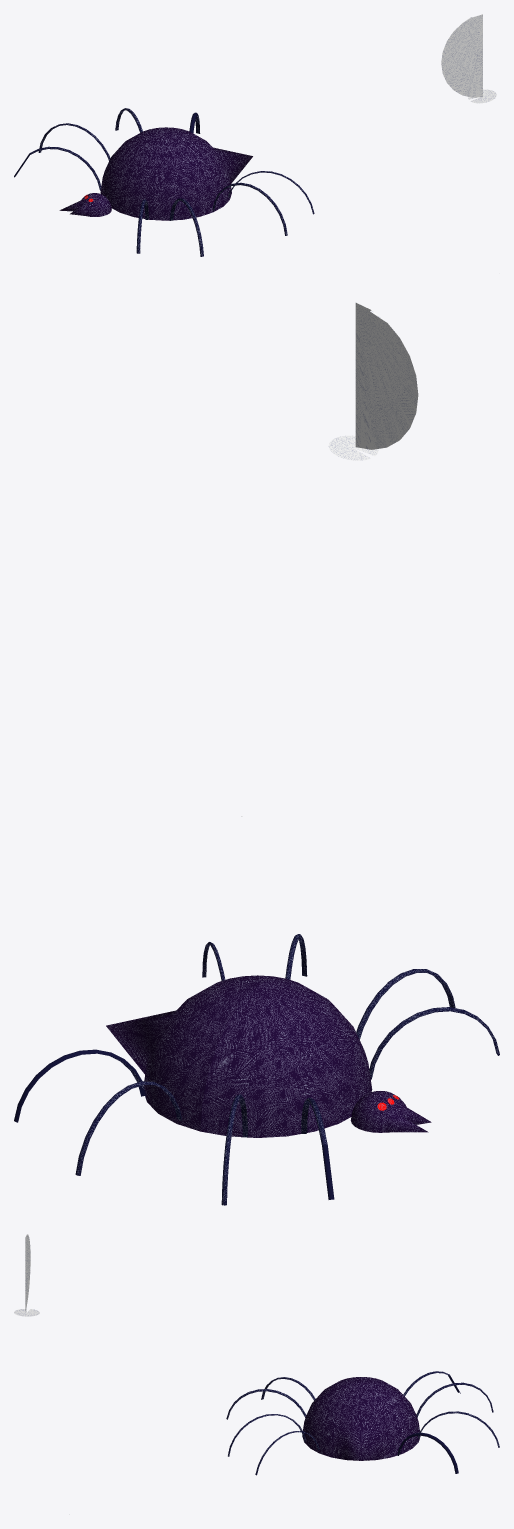
3 renders of one model, top to bottom at view 1: azimuth 30°, elevation 25°; view 2: azimuth 150°, elevation 25°; view 3: azimuth 270°, elevation 25°, orthographic. The views are drawn at different scales.
Parts seen in each view (by area): view 1: SketchUp (×6); view 2: SketchUp (×3); view 3: SketchUp (×3).
Boxes of the visible parts, left/top/right/bottom form: SketchUp (×6): left=59, top=14, right=482, bottom=256; SketchUp (×3): left=106, top=303, right=431, bottom=1137; SketchUp (×3): left=25, top=1234, right=458, bottom=1473.
Size of the model in its own units: 370 by 629 by 370.
